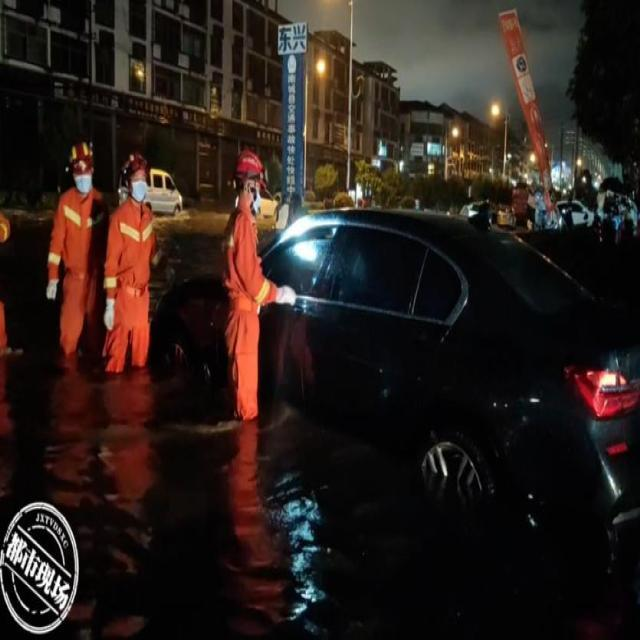rescuer: (222, 144, 277, 426), (43, 137, 107, 359), (106, 148, 158, 376)
